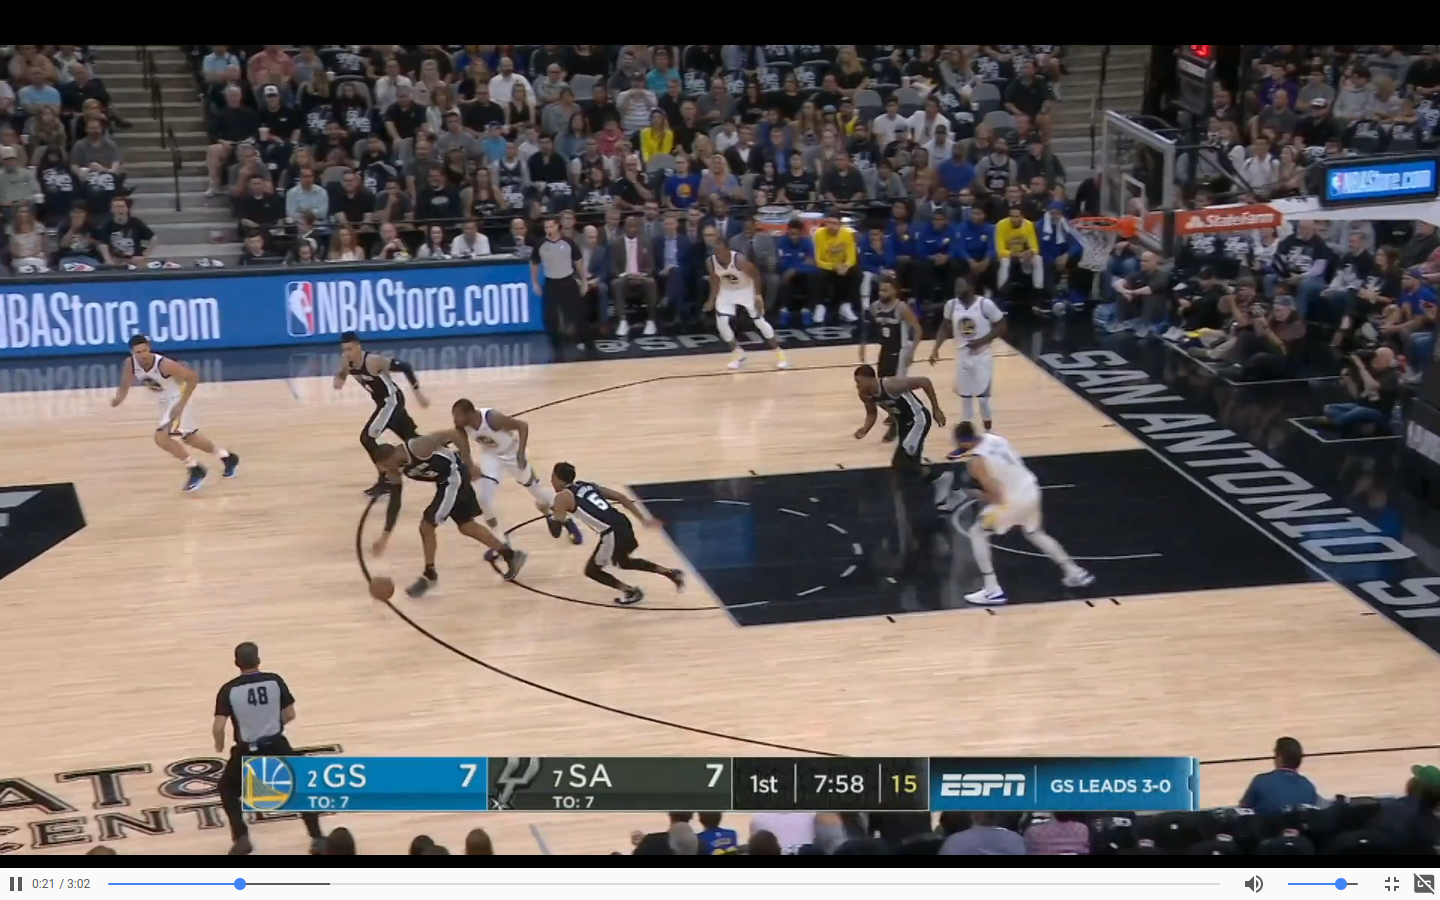basketball: (361, 568, 401, 605)
basketball player: (953, 417, 1084, 606), (373, 440, 532, 592), (541, 465, 695, 612), (102, 337, 242, 494), (325, 323, 432, 494), (688, 237, 796, 372), (461, 389, 555, 525), (935, 274, 1008, 426), (847, 363, 936, 486), (862, 268, 922, 379)
referee: (201, 636, 321, 849), (525, 216, 601, 362)
